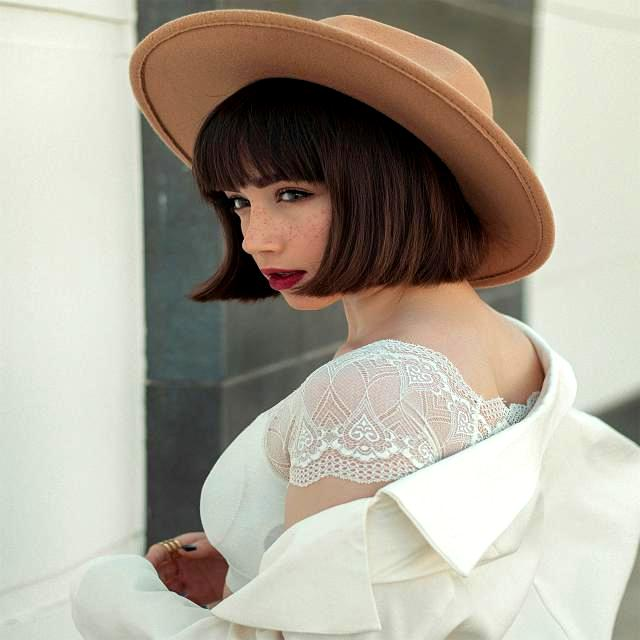no_hard_hat: (130, 11, 554, 287)
person: (67, 61, 640, 638)
